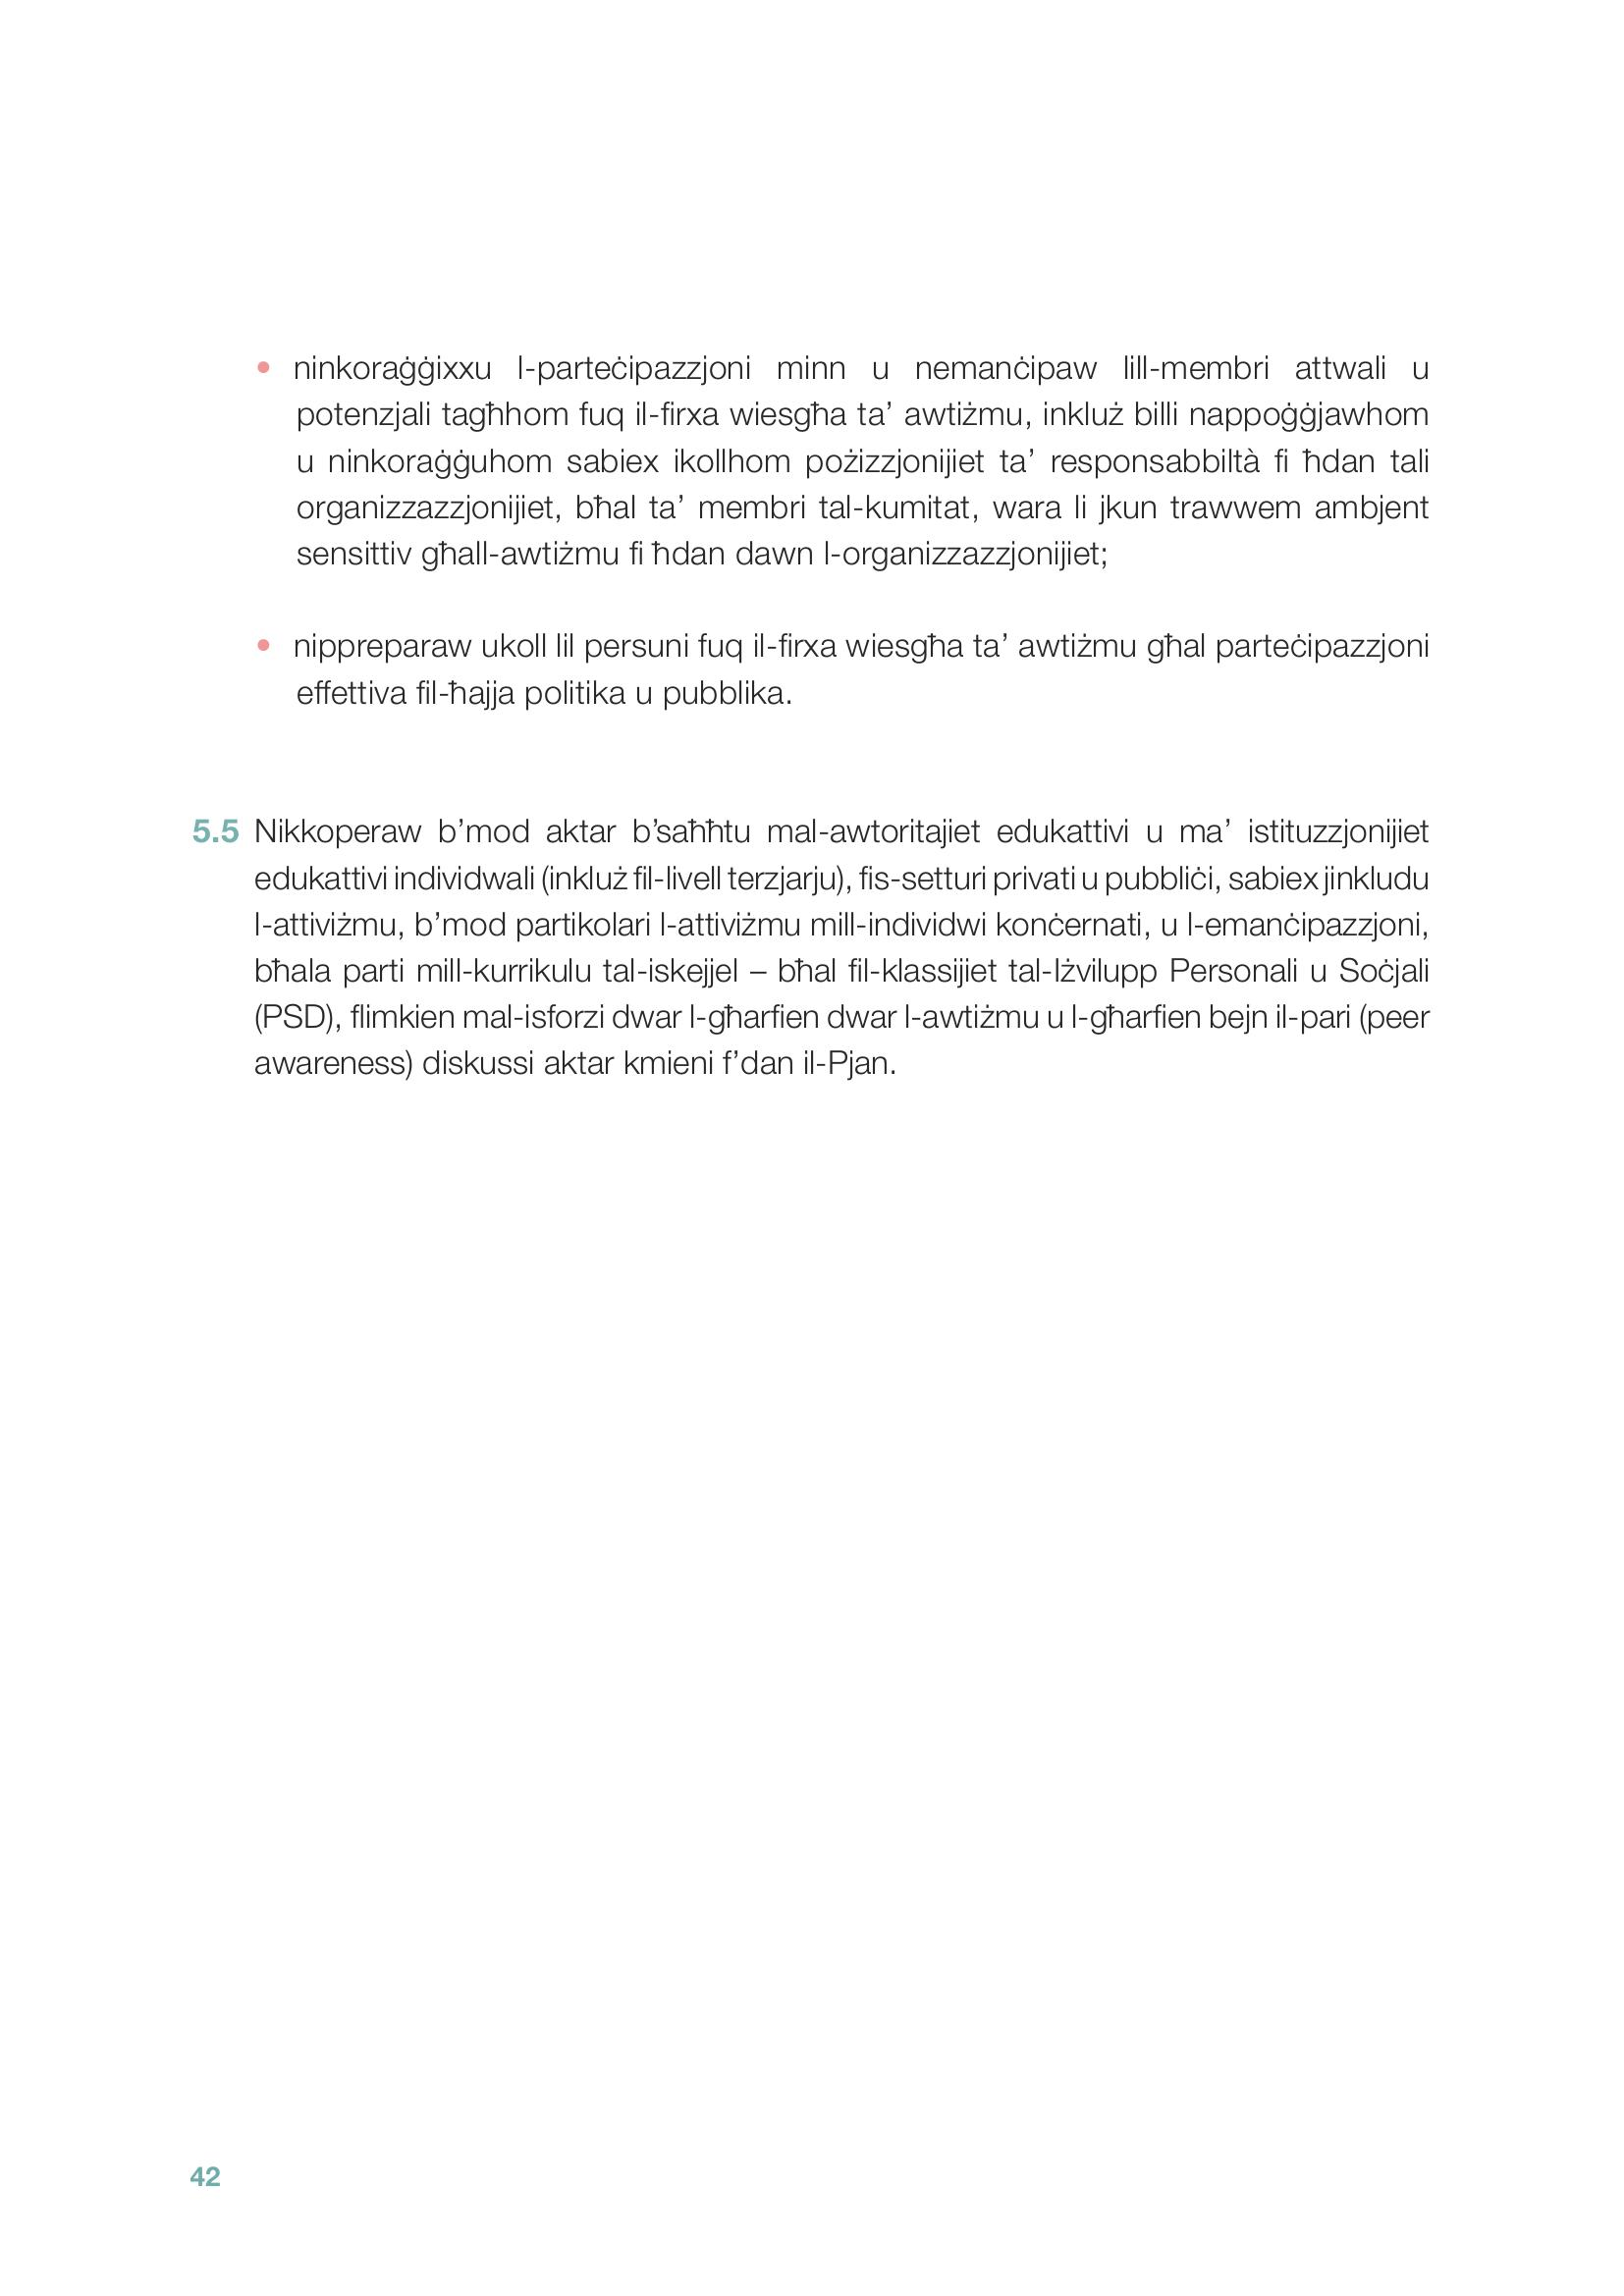text: (169, 329, 1454, 1105)
